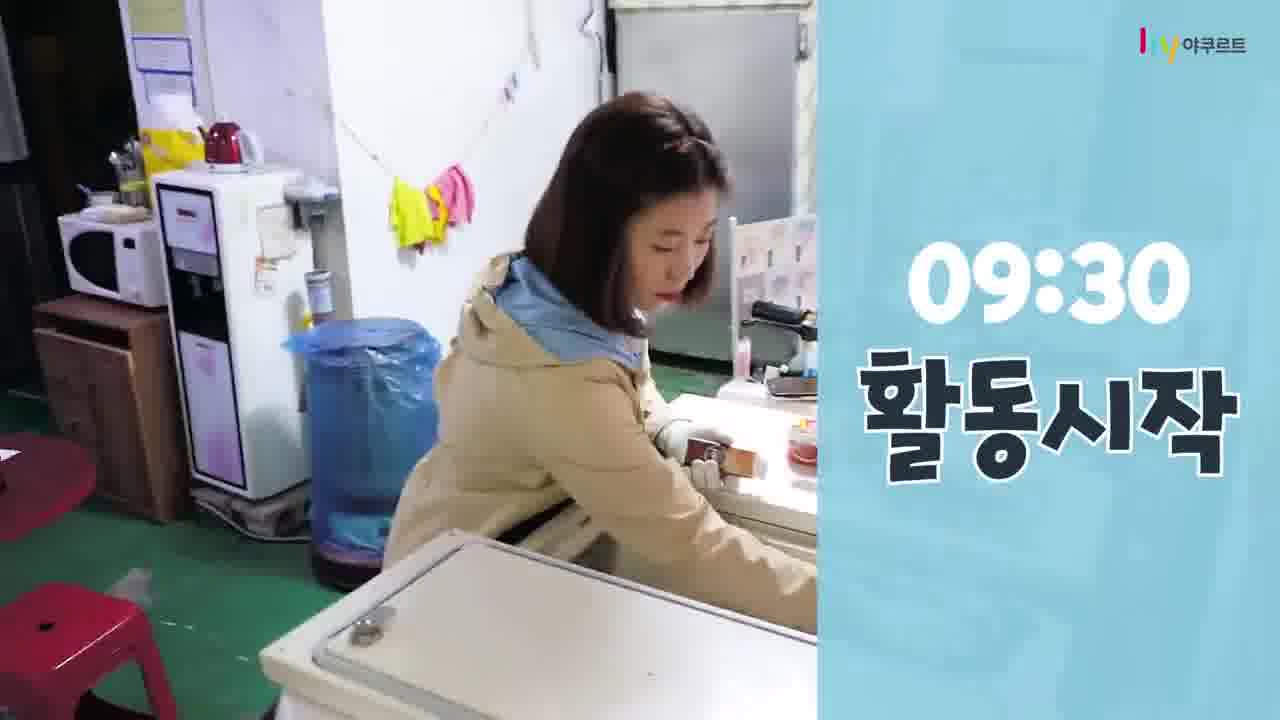Yakurut: (386, 76, 822, 611)
